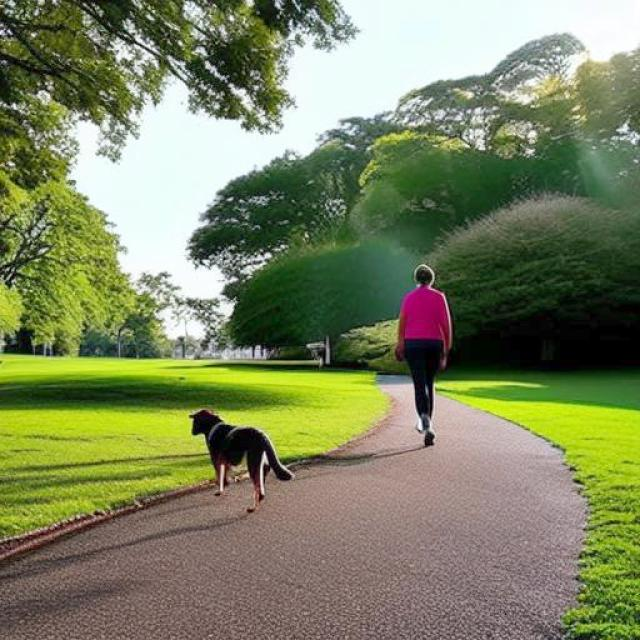Unleashed_Dog: (186, 354, 445, 512)
